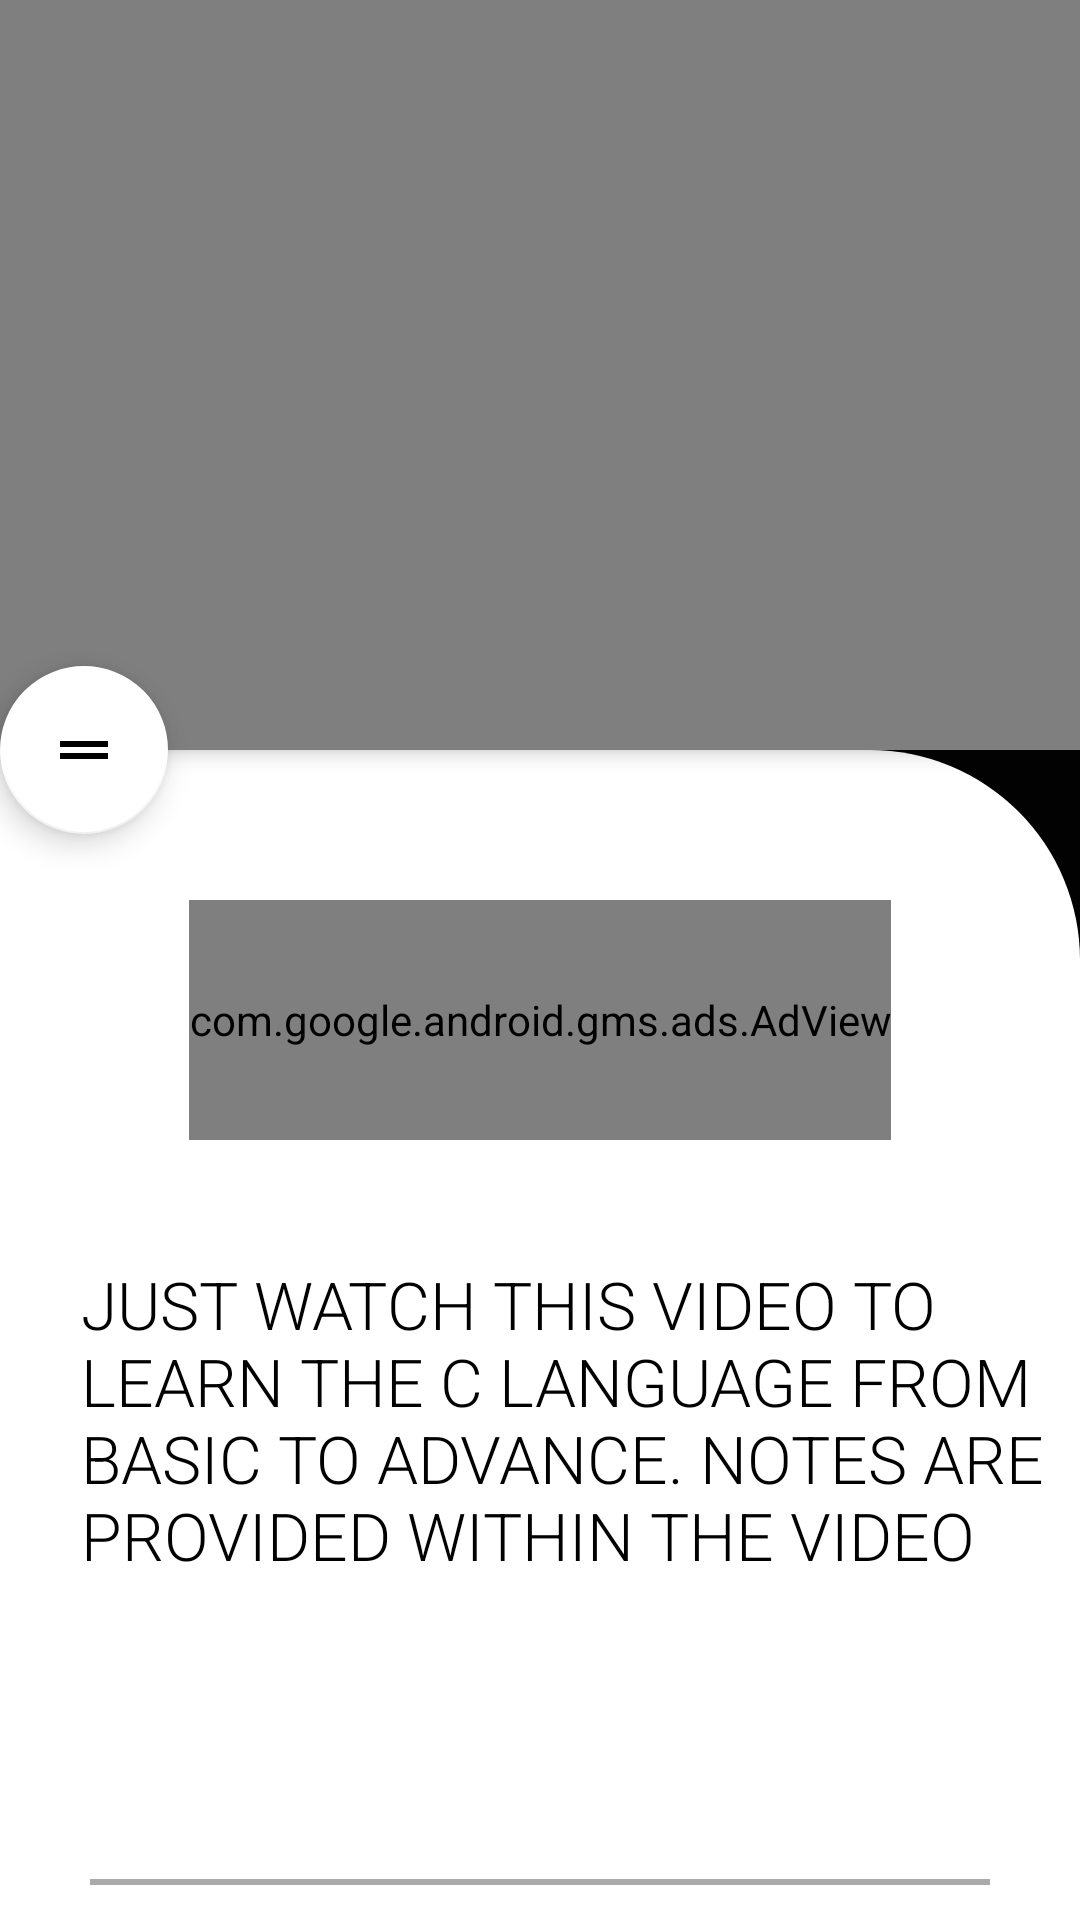

Named icons in this screenshot (1080w x 1920h) and their centers, [x,y]:
drag handle: [84,750]
